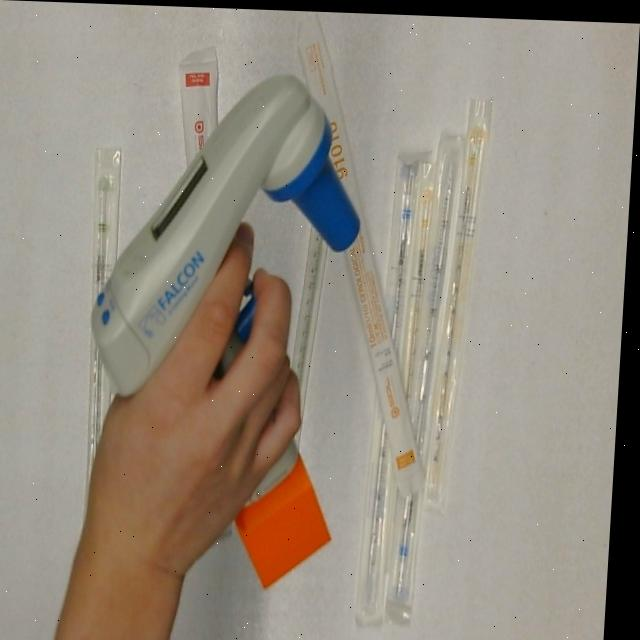Pipette Controller: (83, 68, 374, 591)
Serelogical Pipet 1 mL: (427, 89, 498, 506), (401, 155, 452, 405)
Serelogical Pipet 10 mL: (275, 14, 454, 490)
Serelogical Pipet 2 mL: (80, 141, 129, 517)
Serelogical Pipet 25 mL: (175, 43, 226, 163)
Serelogical Pipet 5 mL: (393, 127, 472, 605), (360, 136, 434, 625)
